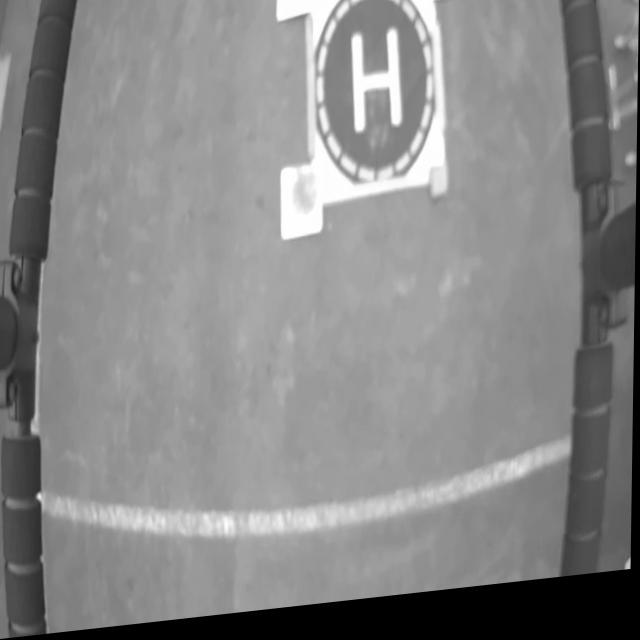Helipad: (351, 36, 403, 139)
